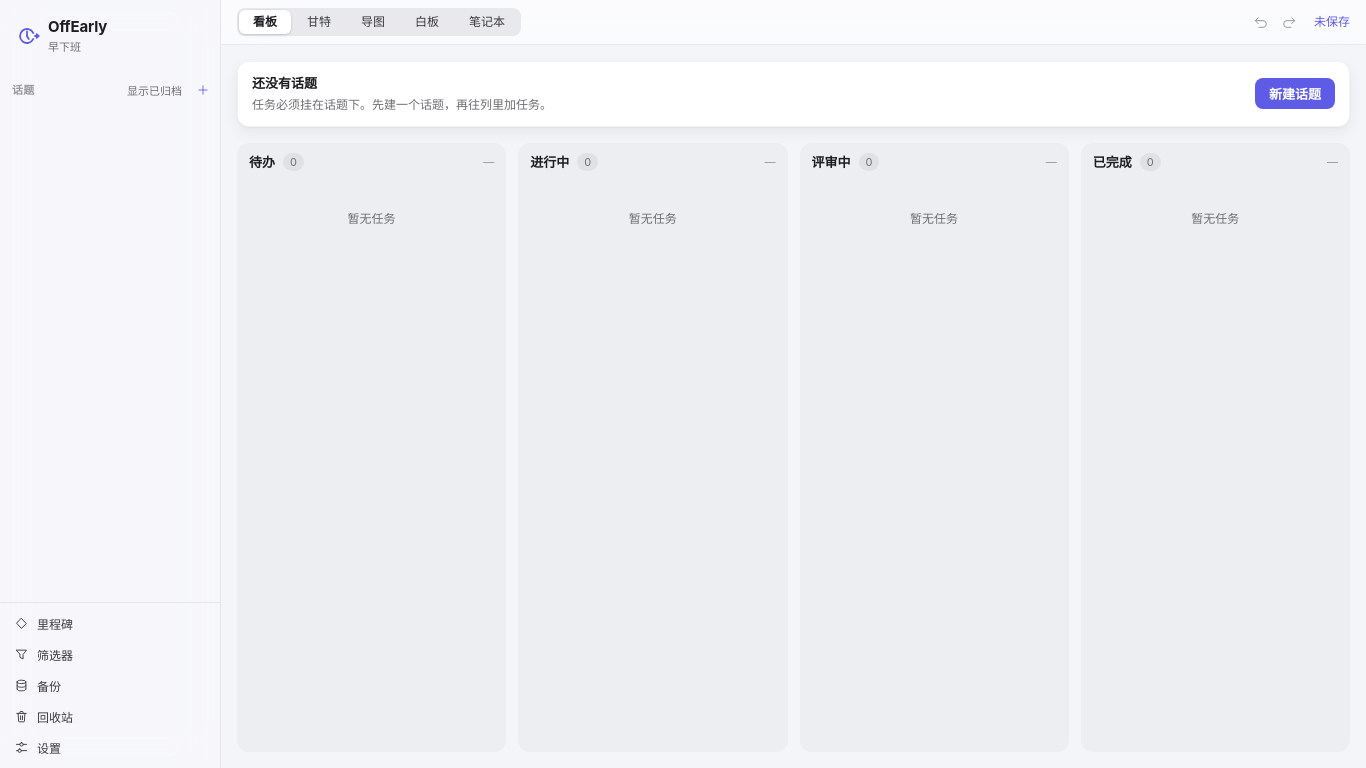
Test: 应用外壳：保存指示、Ctrl+S 与 locale 源 › 保存失败时顶栏给出保存失败与重试，修好后点重试恢复已保存
Step 1. Press s
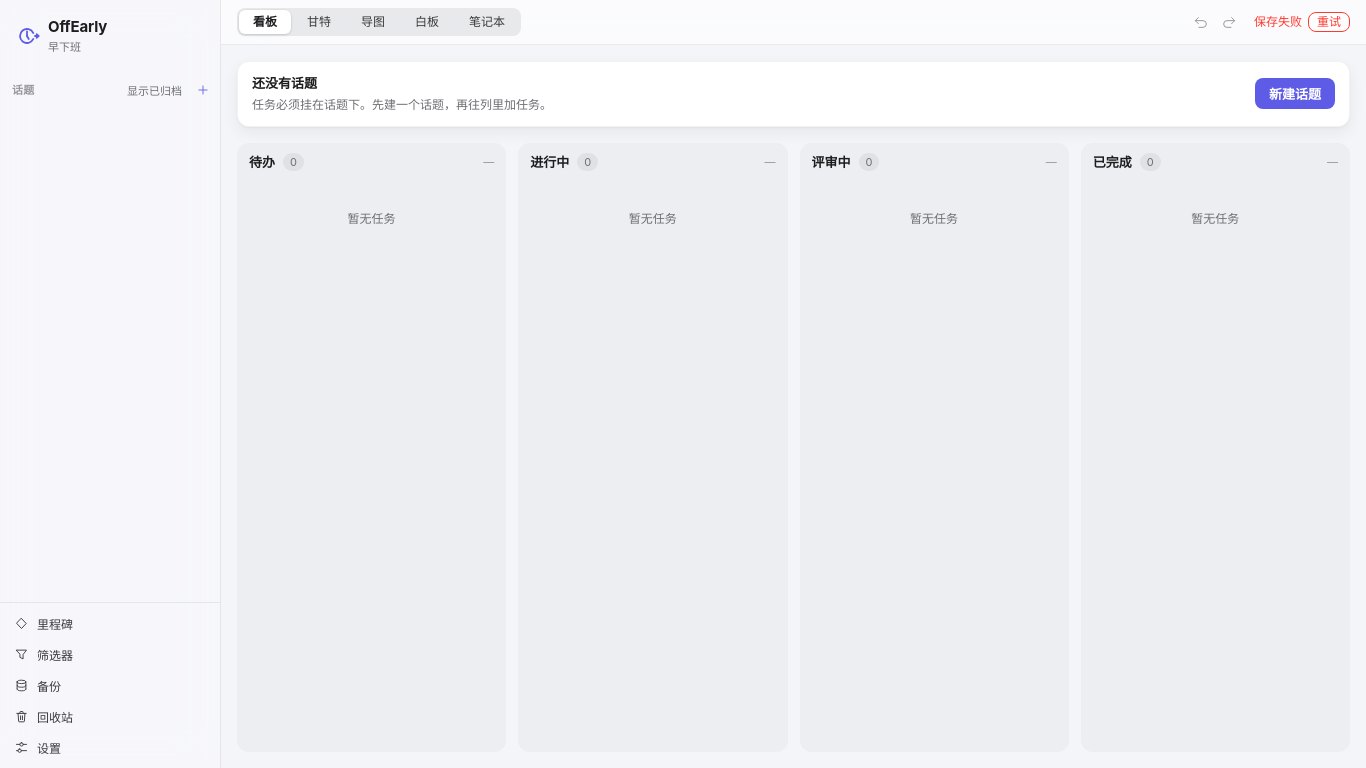
Expected: the text "保存失败" is shown, 1254,12 -> 1302,32
Step 2. Click the button "重试" → [1329, 22], box 1308,12 -> 1350,32
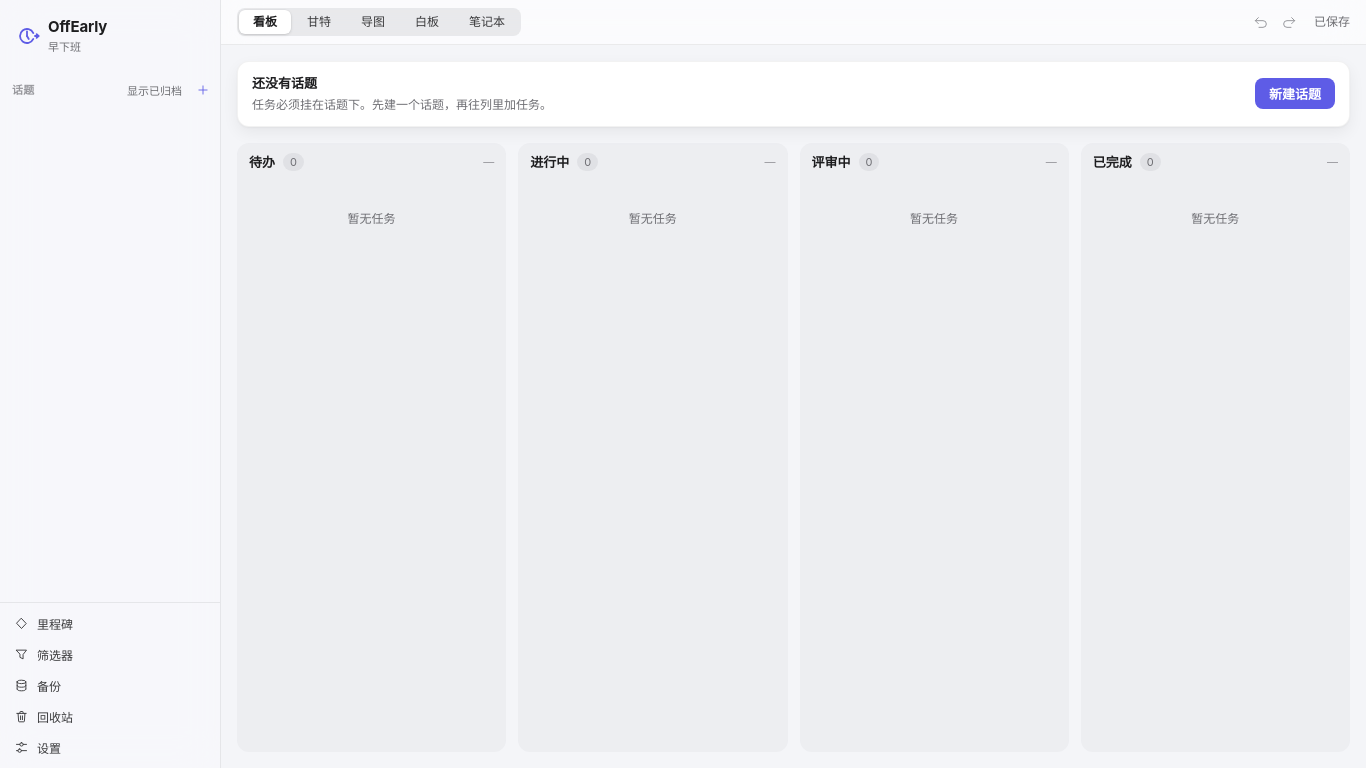
Expected: the text "已保存" is shown, 1314,12 -> 1350,32
